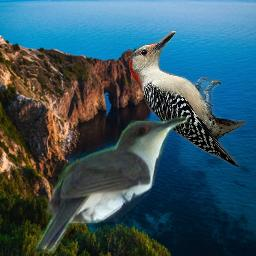Cuckoo: (35, 116, 190, 255)
Woodpecker: (128, 30, 247, 167)
